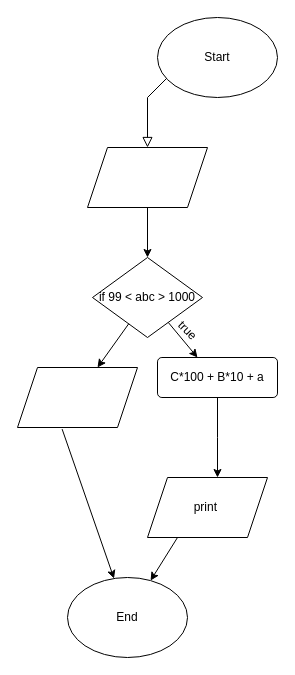
Some shapes in this 295 by 675 pixel diagram are drawn without their labels. The centre of each missing label's shape, as x and y in pixels:
input abc: point (147, 177)
không hợp lệ: point (77, 397)
